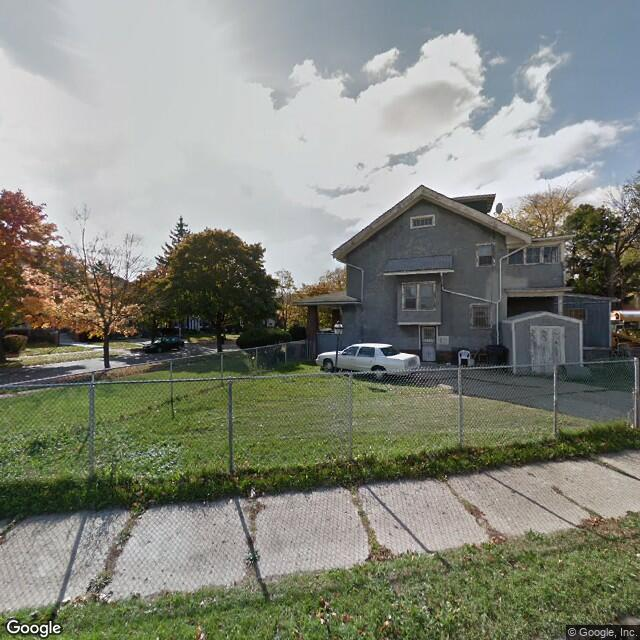litter: (317, 604, 331, 624), (193, 622, 210, 635), (247, 485, 258, 500)
